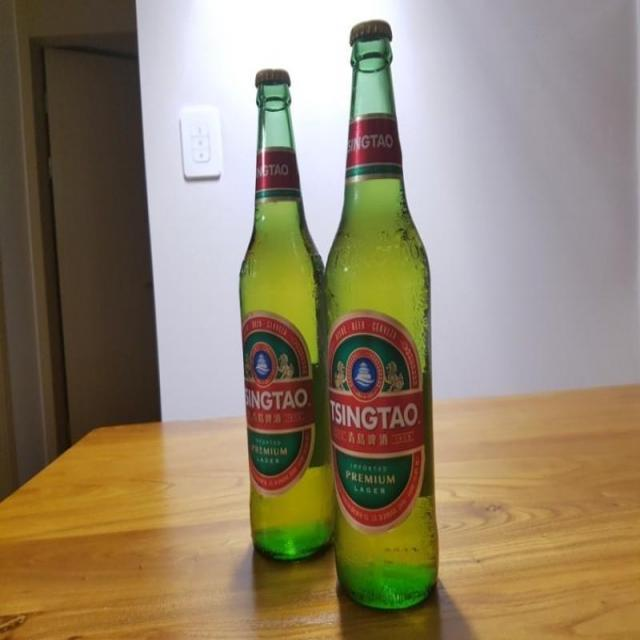beer-bottle: (307, 12, 454, 621), (234, 61, 334, 564)
